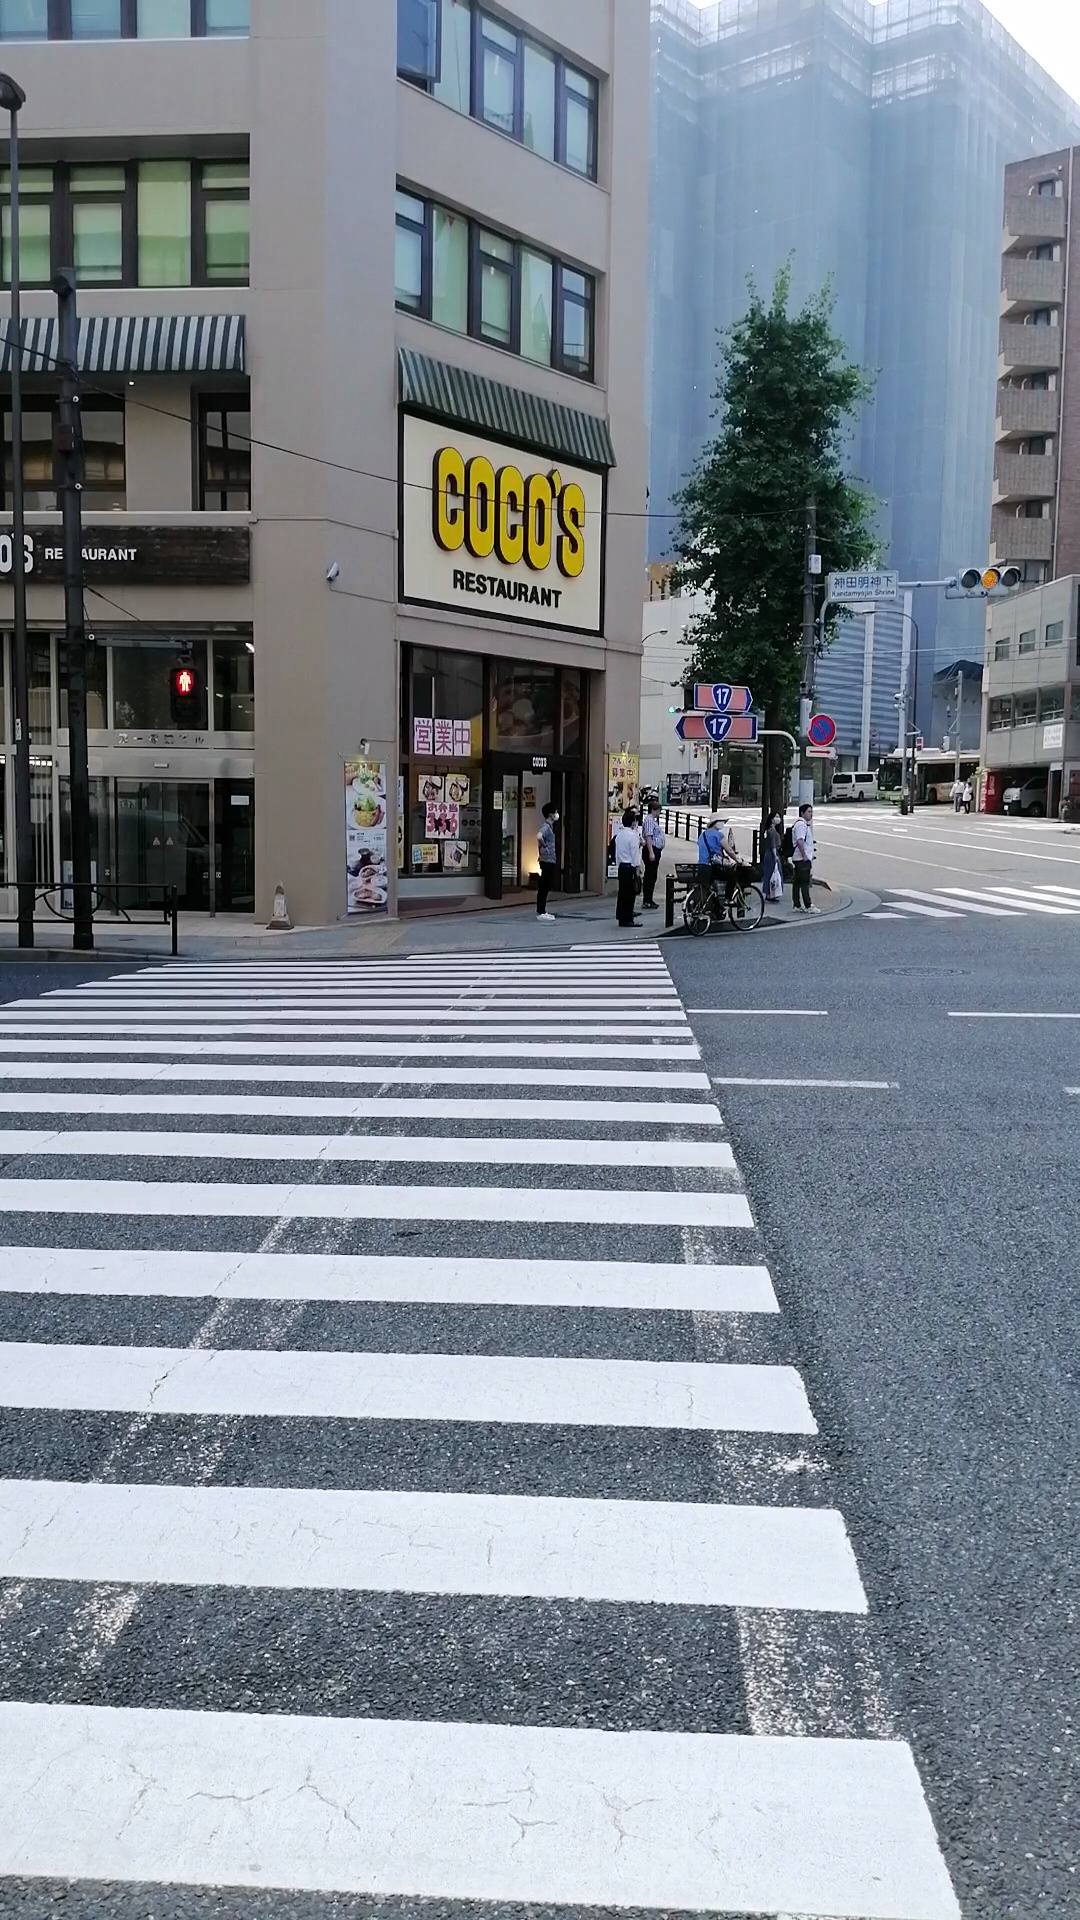red: (169, 666, 199, 723)
